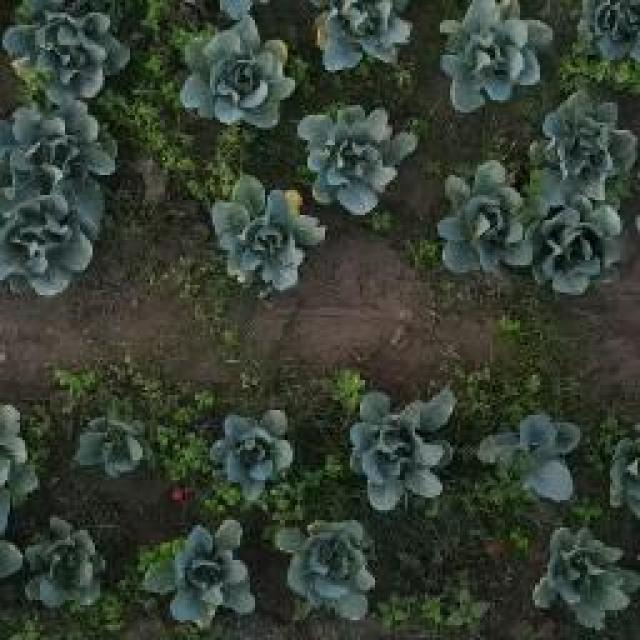cabbage: (208, 175, 329, 289), (346, 385, 460, 502), (298, 82, 410, 200), (432, 0, 547, 112), (143, 520, 257, 628), (180, 15, 297, 116), (0, 101, 113, 199), (7, 7, 122, 103), (536, 91, 636, 197), (438, 163, 532, 275), (274, 516, 371, 622), (536, 523, 638, 622), (20, 520, 118, 618), (534, 203, 636, 295), (478, 412, 576, 500), (204, 407, 297, 496), (0, 200, 95, 287), (314, 0, 416, 71), (70, 408, 151, 478), (580, 0, 640, 62)
